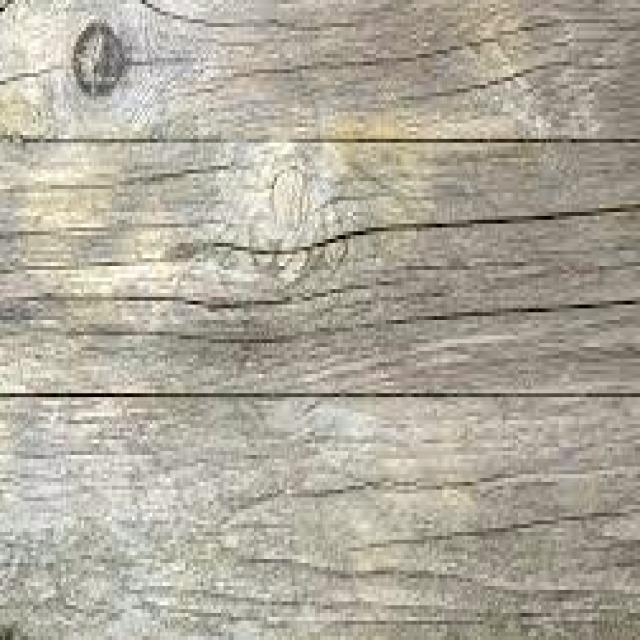have-wooden-eyes: (74, 22, 124, 94)
